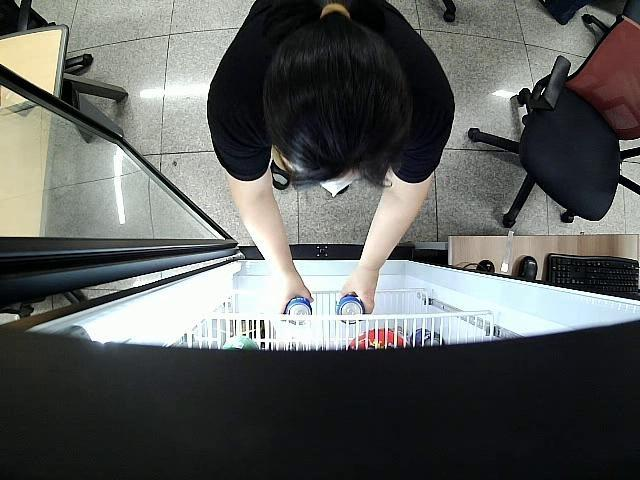13_pocariSweat: (335, 294, 366, 326), (284, 297, 313, 326)
